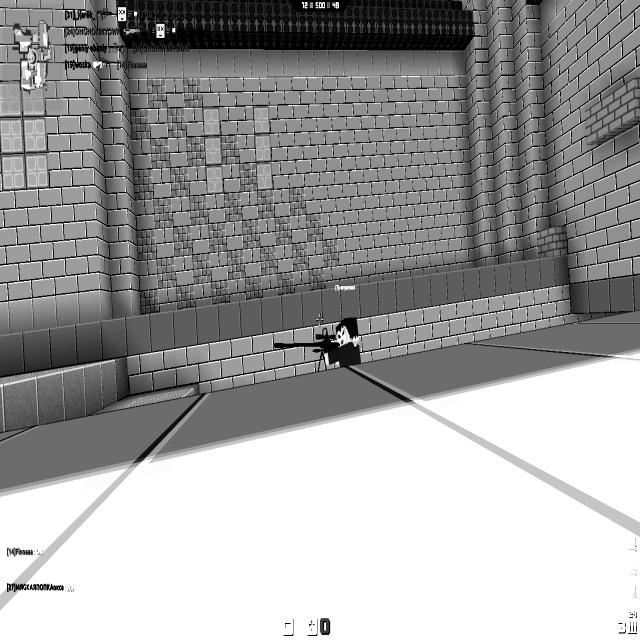Head: (335, 316, 359, 348)
Player: (273, 315, 361, 373), (317, 316, 361, 371)
